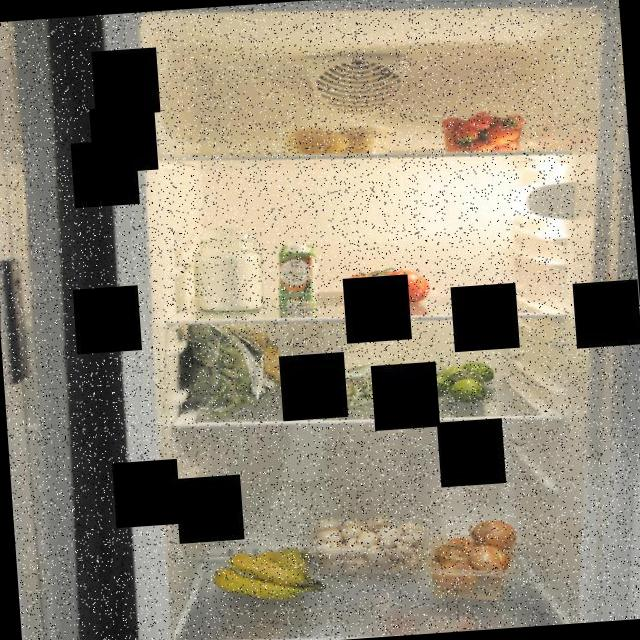Cebolla: (418, 514, 522, 606)
Champiñones: (309, 506, 438, 584)
Patata: (277, 116, 396, 166)
Plátano: (208, 540, 328, 607)
Tomate: (340, 259, 439, 314)
green_beans: (298, 349, 436, 422)
heavy_cream: (273, 238, 322, 312)
spinach: (178, 314, 299, 423)
strawberries: (435, 104, 533, 160)
sugar: (187, 222, 270, 318)
